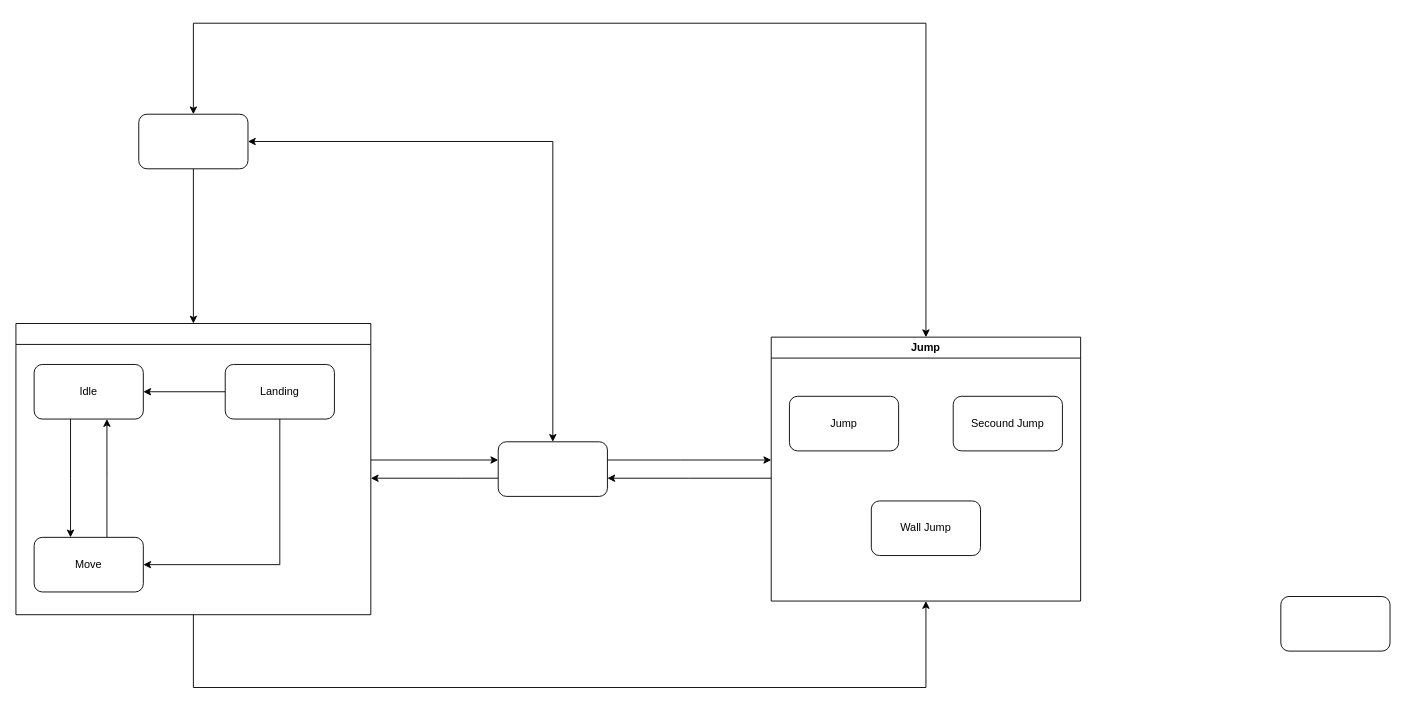
This 1406x711 diagram has some shape labels left out. The shapes that lost their labels are listed below. From the top down, each one's box as (x1, y1, x2, y2) in pixels, then its label:
(138, 113, 248, 169): AirBorne
(15, 323, 371, 615): Ground
(497, 441, 607, 496): Climb
(1280, 596, 1390, 651): Attack
